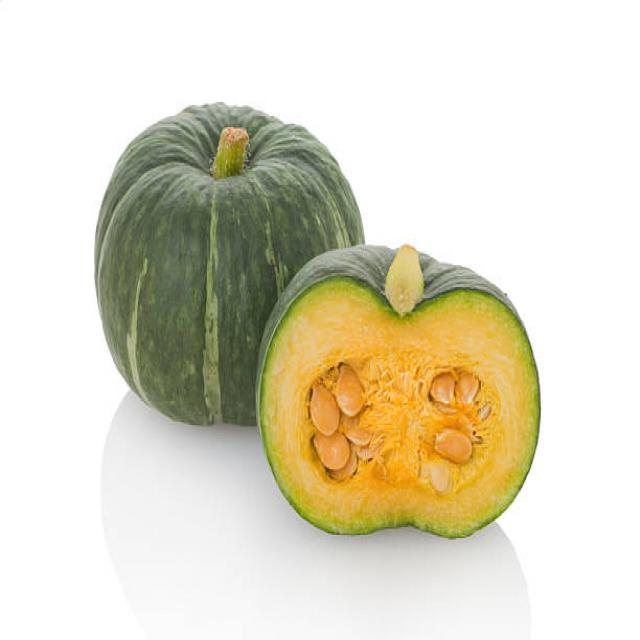pumpkin: (262, 237, 542, 540), (92, 94, 262, 428)
